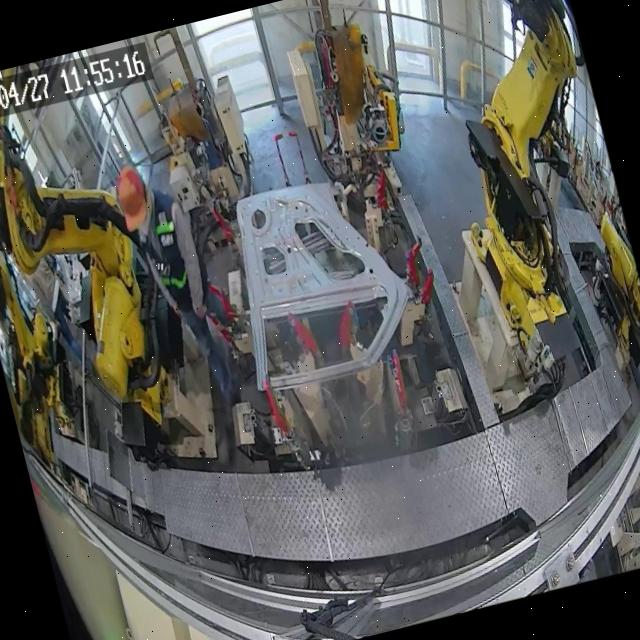Person: (108, 152, 242, 420)
